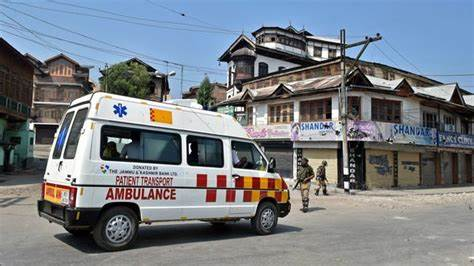ambulance: (38, 85, 290, 246)
